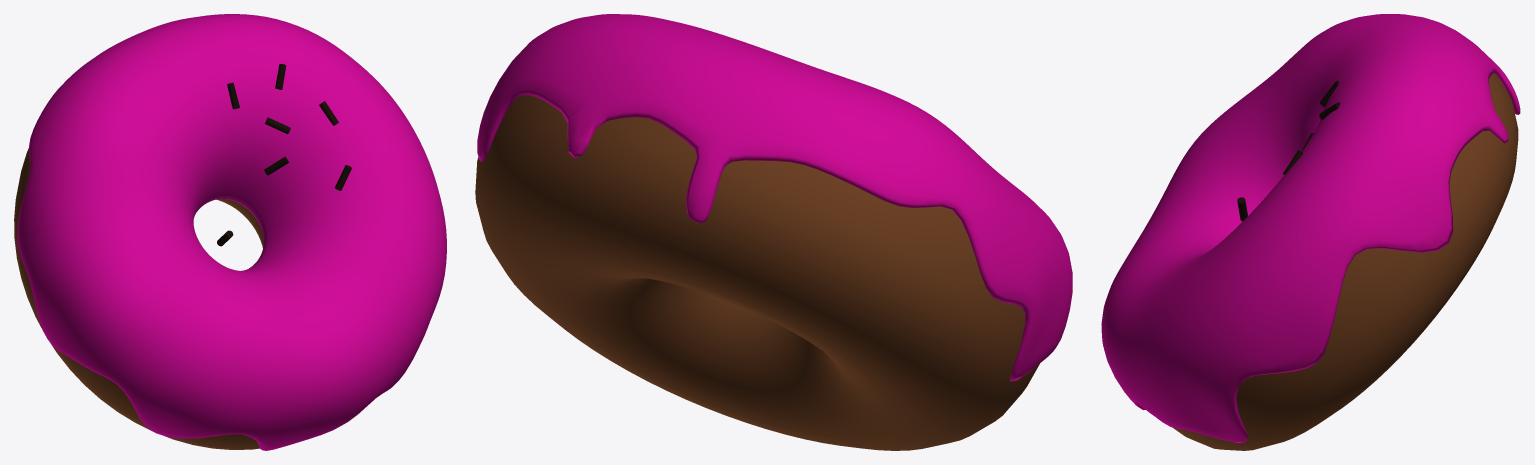
File: donut_tilted.obj
3 renders of one model, left to right at view 1: azimuth 30°, elevation 25°; view 2: azimuth 150°, elevation 25°; view 3: azimuth 270°, elevation 25°, orthographic. The views are drawn at different scales.
Parts seen in each view (by area): view 1: Icing, Donut; view 2: Donut, Icing; view 3: Icing, Donut.
Part boxes in pixels (bbox=[...]): Icing: bbox=[17, 14, 446, 450]; Donut: bbox=[14, 148, 263, 449]; Donut: bbox=[475, 95, 1039, 450]; Icing: bbox=[477, 14, 1072, 381]; Icing: bbox=[1101, 14, 1520, 442]; Donut: bbox=[1172, 73, 1518, 450].
Bounding box in the file's own units: 1.22 × 1.04 × 1.03.
